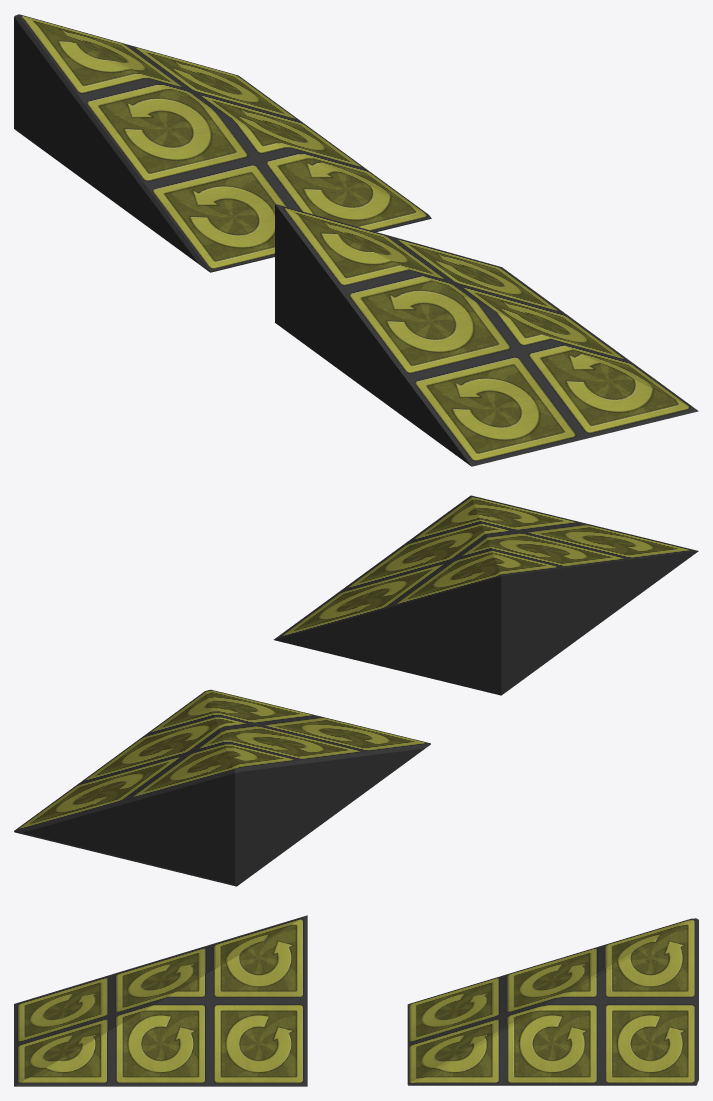
File: slope.outsideCorner.2x3.fbx
The picture shows the model from 3 angles, top to bottom: view 1: azimuth 30°, elevation 25°; view 2: azimuth 150°, elevation 25°; view 3: azimuth 270°, elevation 25°; orthographic projection. The views are drawn at different scales.
Parts seen in each view (by area): view 1: MESH slope.outsideCorner.2x3, MESH slope.outsideCorner.2x3.c; view 2: MESH slope.outsideCorner.2x3, MESH slope.outsideCorner.2x3.c; view 3: MESH slope.outsideCorner.2x3, MESH slope.outsideCorner.2x3.c.
Part boxes in pixels (box(x1,y1,x2,y2)): MESH slope.outsideCorner.2x3: box(275, 204, 698, 466); MESH slope.outsideCorner.2x3.c: box(14, 14, 431, 272); MESH slope.outsideCorner.2x3: box(273, 495, 698, 695); MESH slope.outsideCorner.2x3.c: box(14, 689, 430, 886); MESH slope.outsideCorner.2x3: box(14, 915, 307, 1086); MESH slope.outsideCorner.2x3.c: box(407, 918, 698, 1085).
Size of what is drawn, in the model's own units: 200 by 100 by 700.
